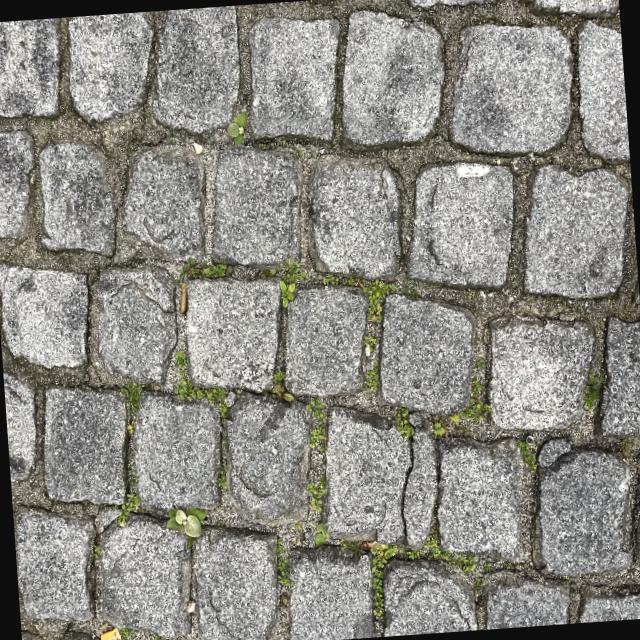pavement: (255, 0, 627, 258), (0, 28, 227, 260)
weedling: (273, 249, 494, 430)
